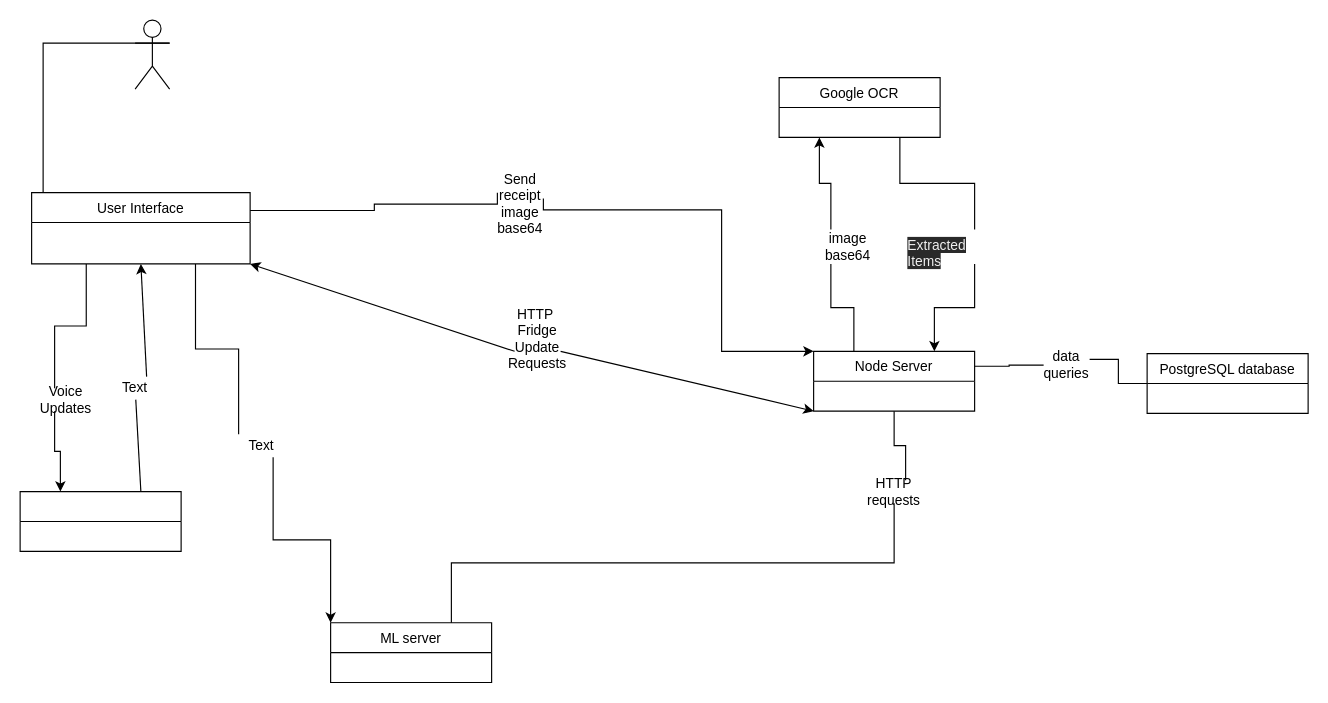
Some shapes in this 1328 by 703 pixel diagram are drawn without their labels. The shapes that lost their labels are listed below. From the top down, each one's centre as x and y in pixels, then its label:
At (x=152, y=54): "Users".
At (x=100, y=520): "Amazon API".
